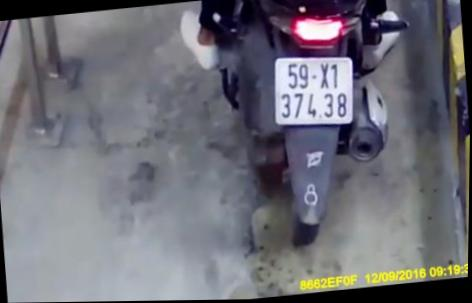LP: (268, 47, 359, 132)
